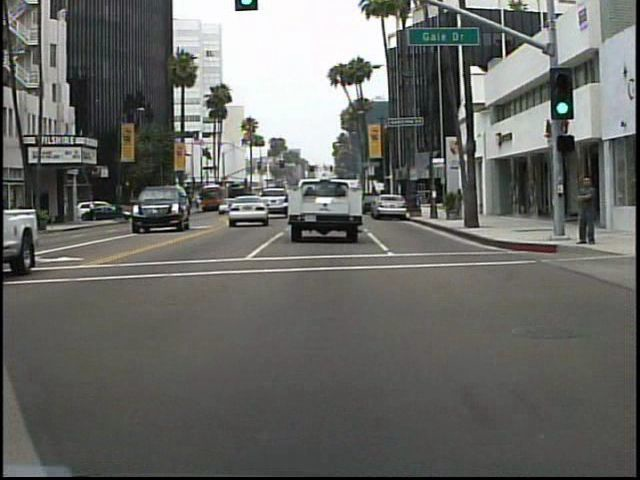person: (572, 168, 598, 252), (451, 184, 468, 218)
